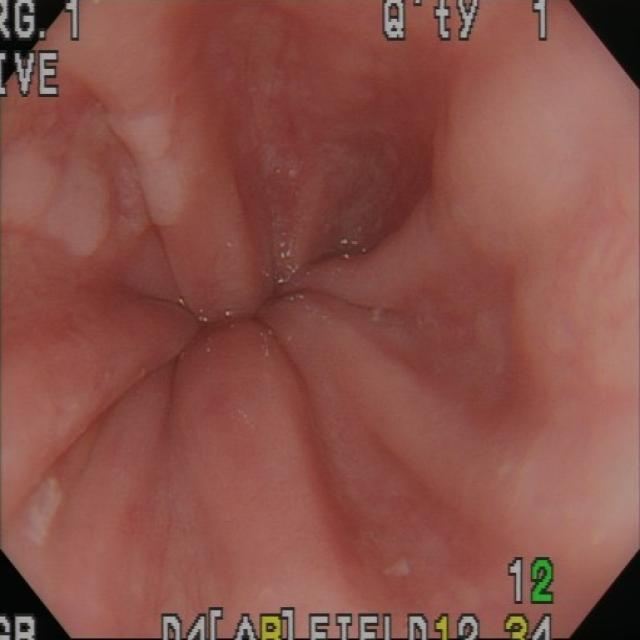I: (99, 169, 371, 464)
J: (2, 111, 189, 261), (26, 477, 69, 549)
S: (160, 608, 483, 640), (383, 3, 558, 45), (3, 3, 83, 45), (3, 50, 63, 101), (507, 558, 556, 608), (506, 614, 556, 640), (2, 614, 39, 640)
T: (269, 228, 297, 287)
U: (336, 234, 371, 261)
